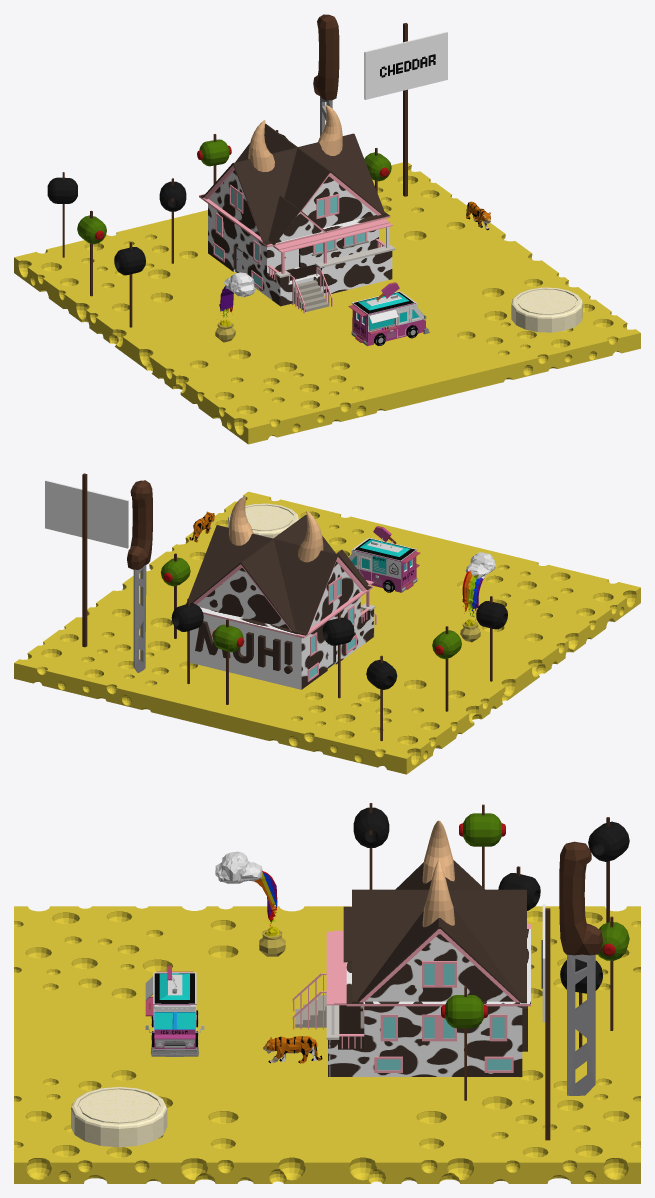
3 renders of one model, top to bottom at view 1: azimuth 30°, elevation 25°; view 2: azimuth 150°, elevation 25°; view 3: azimuth 270°, elevation 25°, orthographic. The views are drawn at different scales.
Parts seen in each view (by area): view 1: Cube.022, Cube.1242, Cube.023, VEHICLES_ICE_CREAM_TRUCK, Cylinder.016, Cube.024, OBJRANDOM_RAINBOW, Sphere.017, Sphere.016, Sphere.020, Sphere.018, Sphere.022 (+1 smaller); view 2: Cube.022, Cube.1242, Cube.023, Cube.024, VEHICLES_ICE_CREAM_TRUCK, OBJRANDOM_RAINBOW, Cylinder.016, Sphere.017, Sphere.020, Sphere.021, Sphere.016, Sphere.018 (+2 smaller); view 3: Cube.022, Cube.1242, Cube.024, Cylinder.016, VEHICLES_ICE_CREAM_TRUCK, OBJRANDOM_RAINBOW, Cube.023, Sphere.019, Sphere.016, Sphere.018, Sphere.017, Sphere.022 (+3 smaller).
Boxes of the visible parts, x1,y1,x2,y2 form: Cube.022: (14, 162, 640, 444); Cube.1242: (199, 105, 395, 313); Cube.023: (364, 23, 447, 196); VEHICLES_ICE_CREAM_TRUCK: (348, 282, 429, 346); Cylinder.016: (511, 287, 582, 332); Cube.024: (313, 14, 339, 135); OBJRANDOM_RAINBOW: (215, 272, 255, 342); Sphere.017: (114, 242, 145, 327); Sphere.016: (47, 172, 77, 257); Sphere.020: (159, 178, 186, 263); Sphere.018: (77, 210, 106, 296); Sphere.022: (197, 134, 231, 183); Cube.022: (14, 491, 640, 774); Cube.1242: (185, 496, 376, 689); Cube.023: (45, 473, 128, 647); Cube.024: (127, 480, 152, 672); VEHICLES_ICE_CREAM_TRUCK: (348, 526, 420, 592); OBJRANDOM_RAINBOW: (460, 552, 495, 642); Cylinder.016: (228, 503, 298, 538); Sphere.017: (476, 596, 507, 681); Sphere.020: (322, 612, 354, 698); Sphere.021: (171, 598, 203, 683); Sphere.016: (366, 655, 397, 741); Sphere.018: (432, 626, 461, 711); Cube.022: (14, 906, 640, 1183); Cube.1242: (292, 820, 530, 1076); Cube.024: (559, 841, 602, 1095); Cylinder.016: (71, 1086, 167, 1147); VEHICLES_ICE_CREAM_TRUCK: (145, 965, 204, 1056); OBJRANDOM_RAINBOW: (215, 851, 285, 956); Cube.023: (541, 904, 550, 1140); Sphere.019: (441, 986, 487, 1100); Sphere.016: (588, 817, 629, 922); Sphere.018: (459, 804, 505, 888); Sphere.017: (353, 803, 389, 889); Sphere.022: (598, 916, 629, 1030).
Size of the model in its own units: 3917 by 2010 by 4000.
52 materials, 3 textured.
